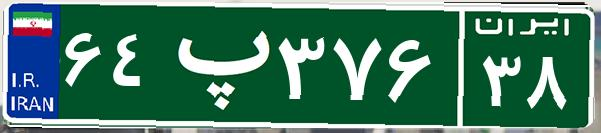3: (273, 28, 330, 110), (475, 38, 525, 113)
4: (110, 28, 158, 105)
6: (385, 28, 445, 110), (57, 26, 110, 107)
7: (330, 28, 385, 110)
8: (525, 38, 570, 115)
پ: (158, 15, 273, 115)
